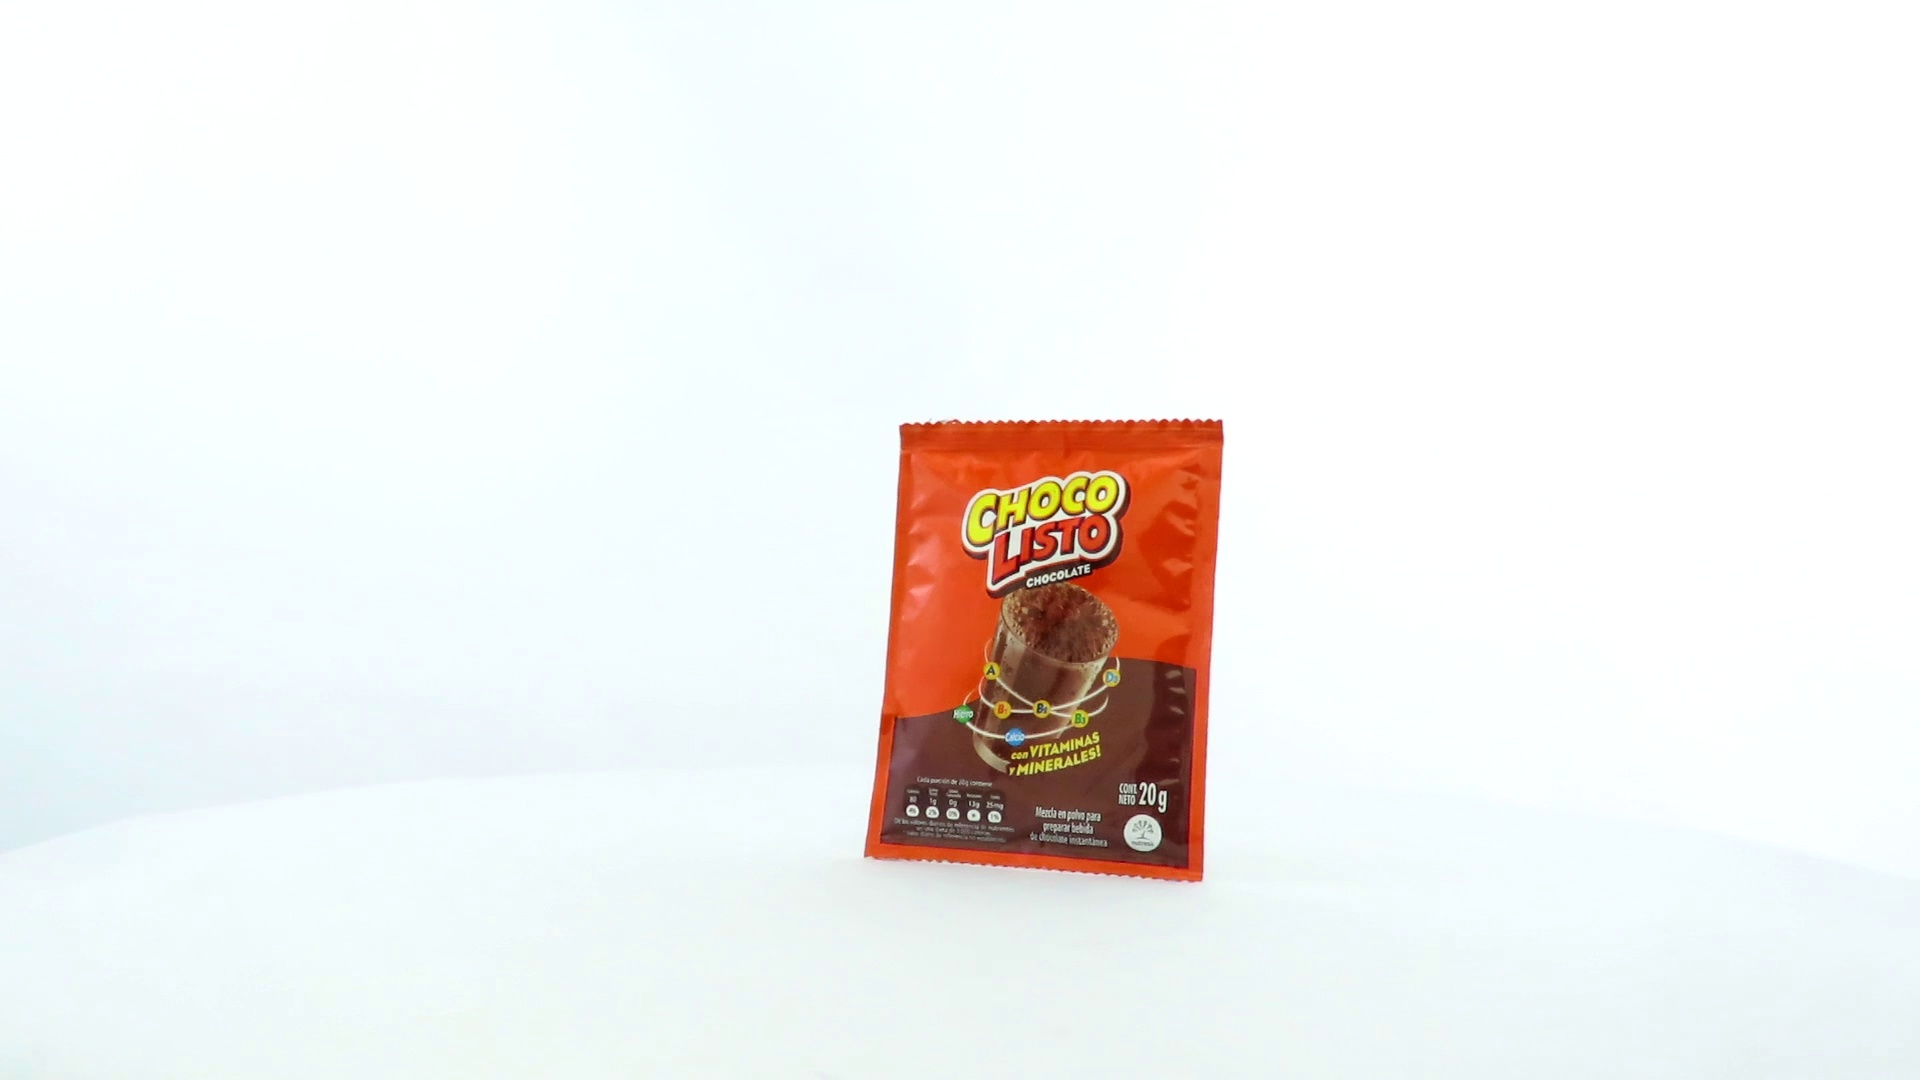COL0170103SOB02000: (858, 413, 1230, 889)
